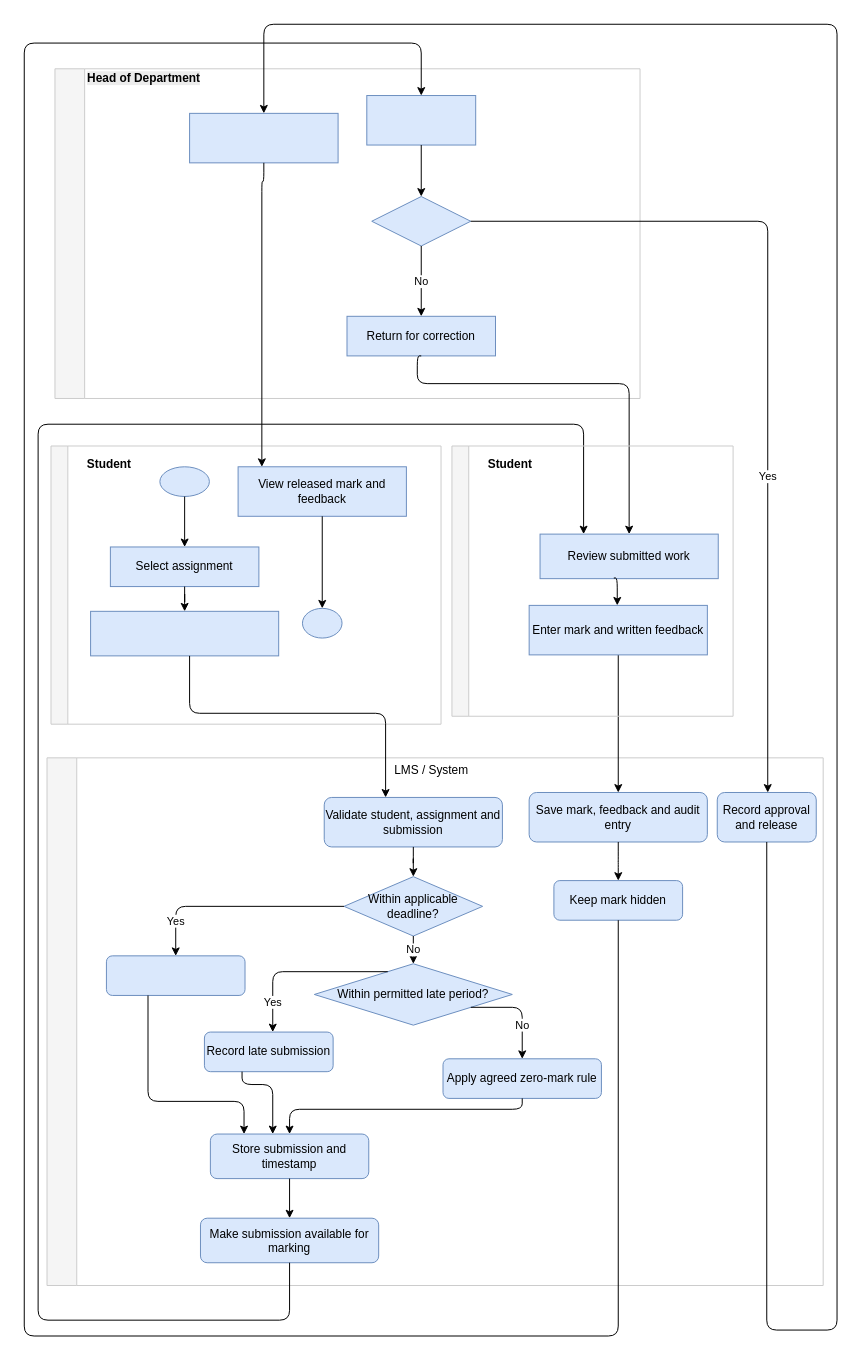
The diagram is 862 pixels wide and 1361 high, and some of its shapes have lost their labels. Here are the shapes that lost their labels. From the top down, the centre of each, then its label:
At [263,137]: "Release approved marks".
At [421,120]: "Review marks".
At [421,221]: "Approve mark?".
At [184,481]: "Start".
At [184,633]: "Submit work or permitted resubmission".
At [321,622]: "End".
At [175,975]: "Record on-time submission".
